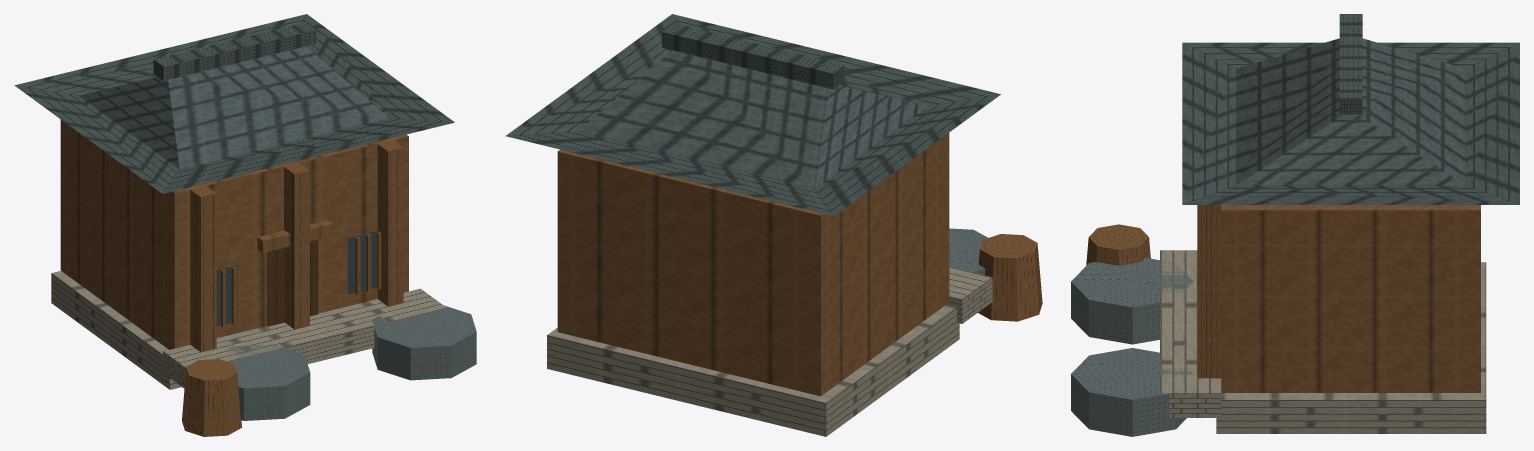
File: domestic-MINT-1-lod0.glb
3 renders of one model, left to right at view 1: azimuth 30°, elevation 25°; view 2: azimuth 150°, elevation 25°; view 3: azimuth 270°, elevation 25°, orthographic. The views are drawn at different scales.
Size of the model in its own units: 0.5733 by 0.504 by 0.657.
Materials: 1 (1 with a texture image).
